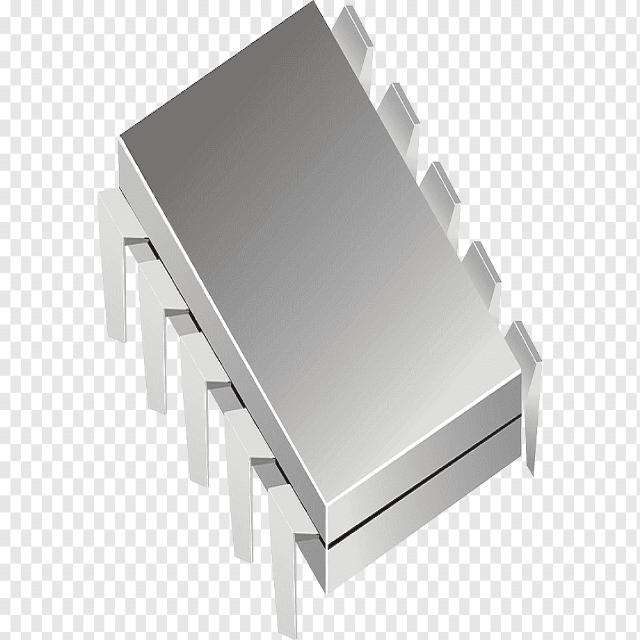IC: (97, 0, 534, 635)
